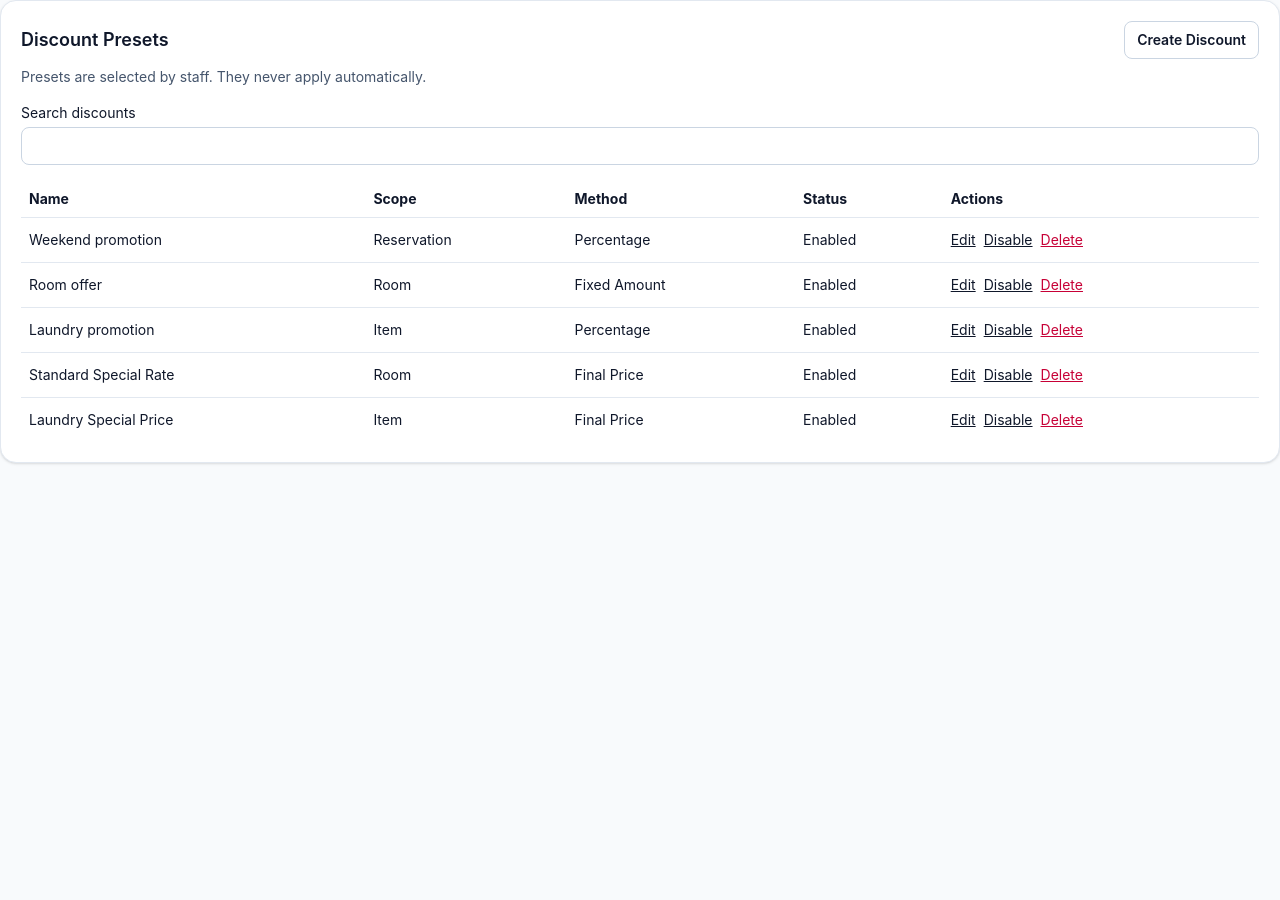
Test case: unified discount builder › offers only fixed and percentage methods for reservation presets
The width and height of the screenshot is (1280, 900).
Click the button "Create Discount" at (1192, 40), box [1124,21,1259,59]
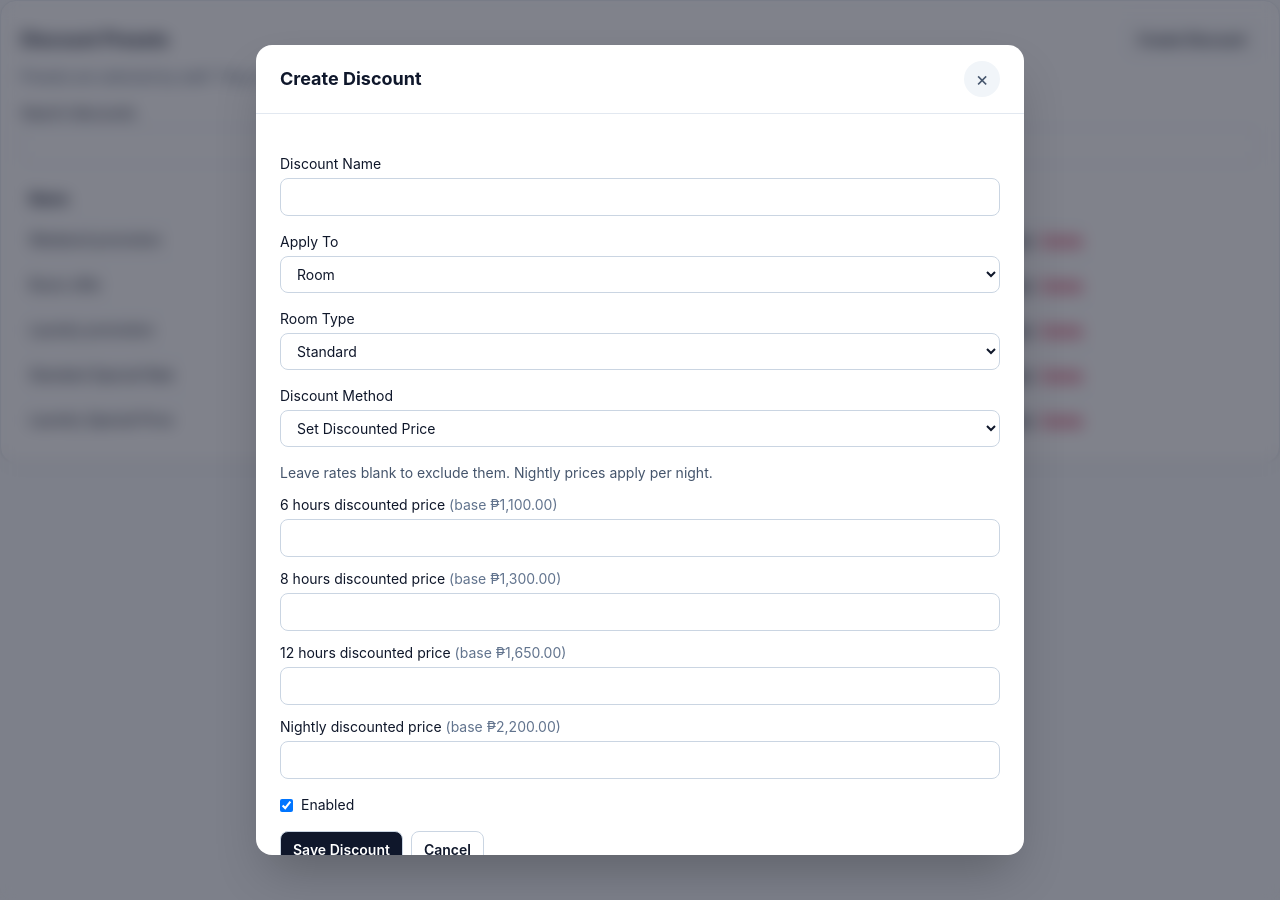
Select "Reservation" in the dropdown labelled "Apply To" at (640, 274), box [280,256,1000,293]
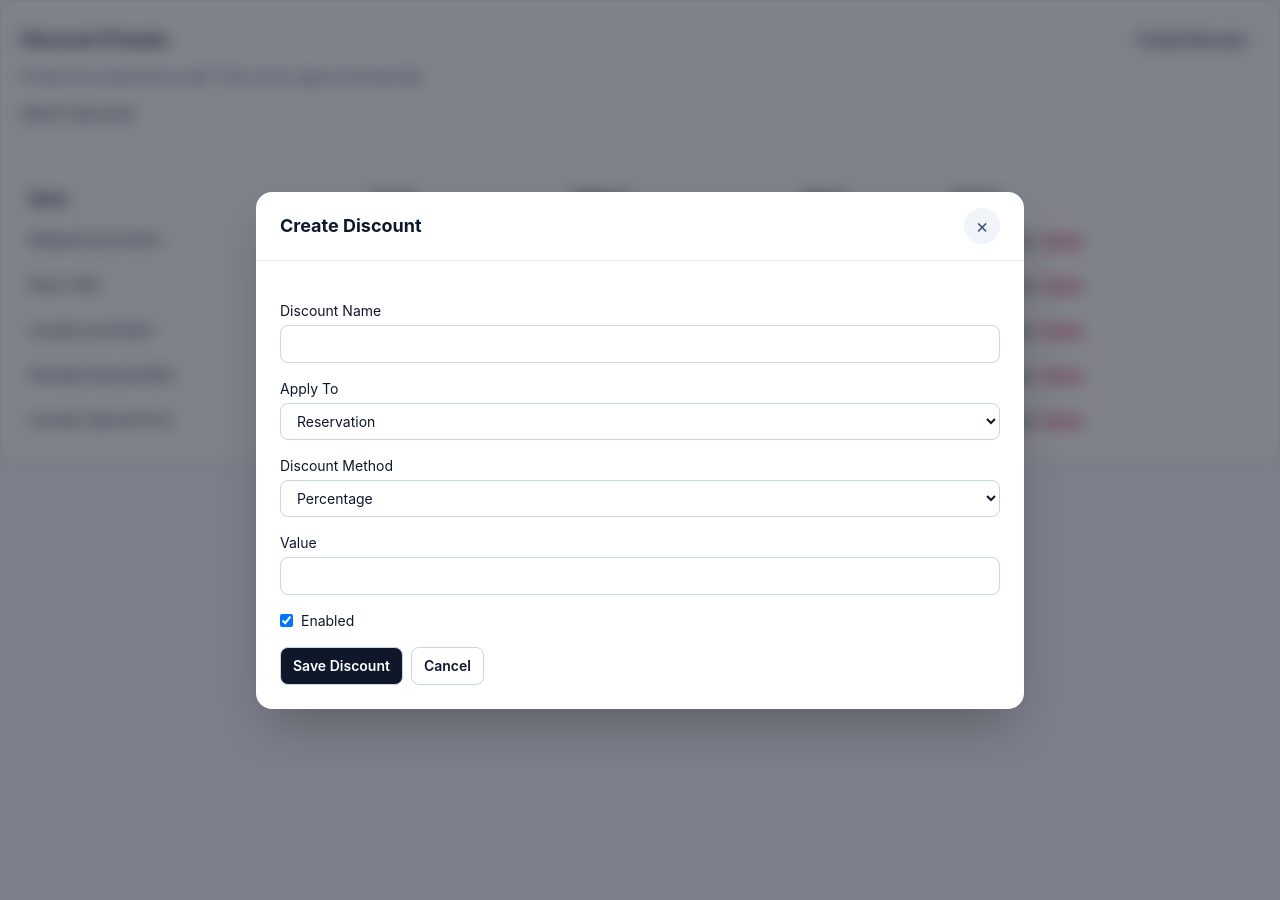
Check: the option "Set Discounted Price" is not shown
Type "Student offer" into the field labelled "Discount Name" at (640, 344), box [280,324,1000,362]
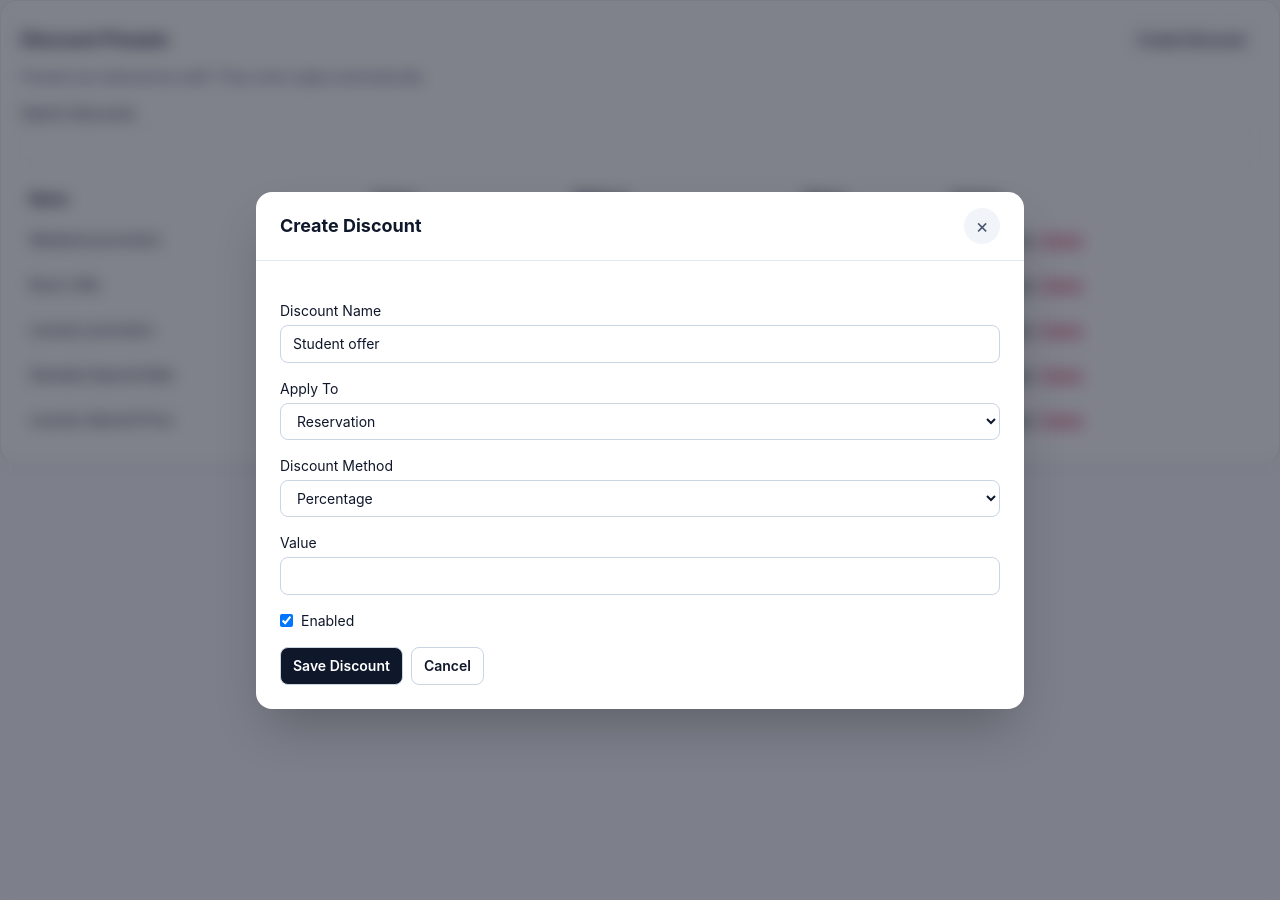
Type "15" into the number field labelled "Value" at (640, 576), box [280,556,1000,594]
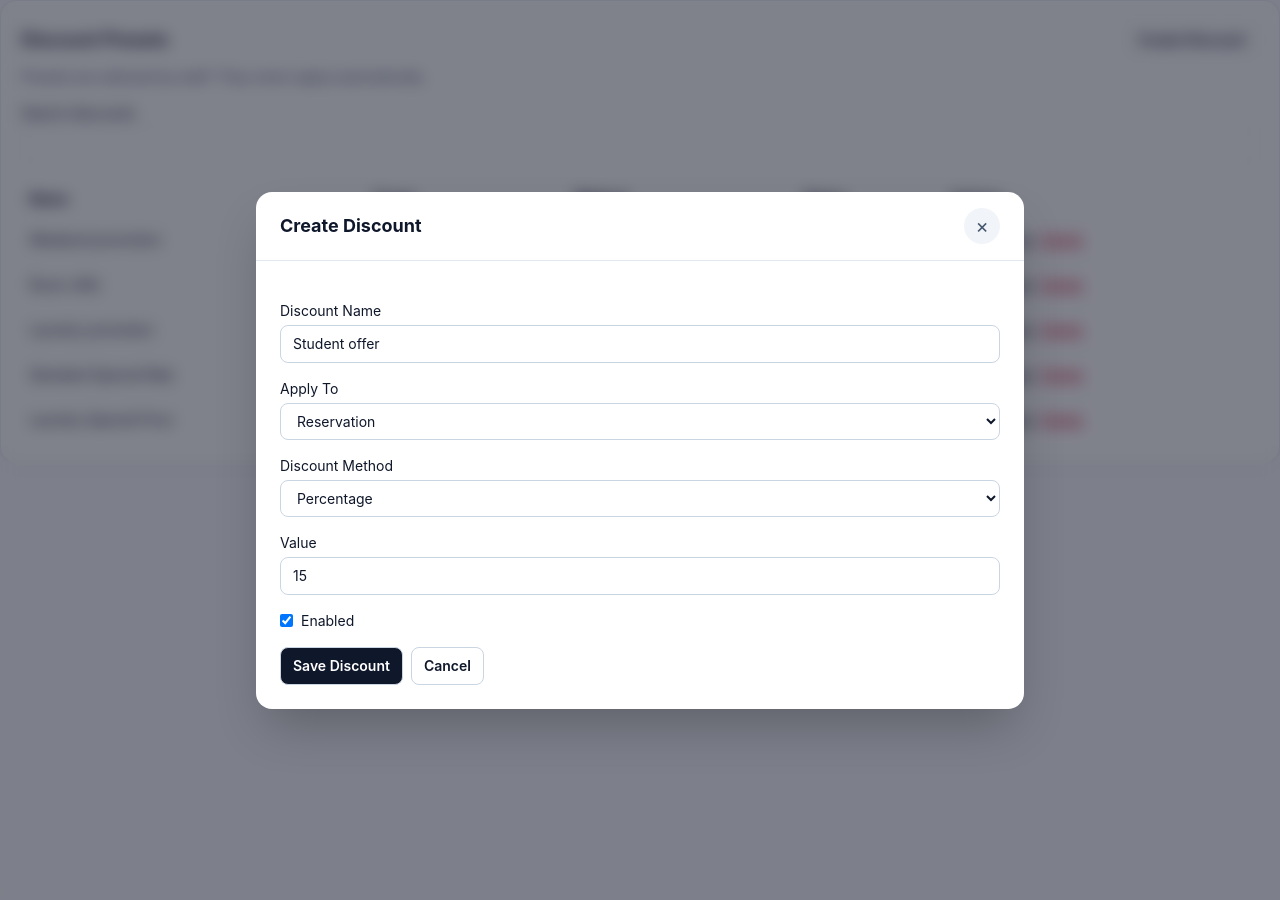
Click the button "Save Discount" at (341, 666), box [280,646,403,684]
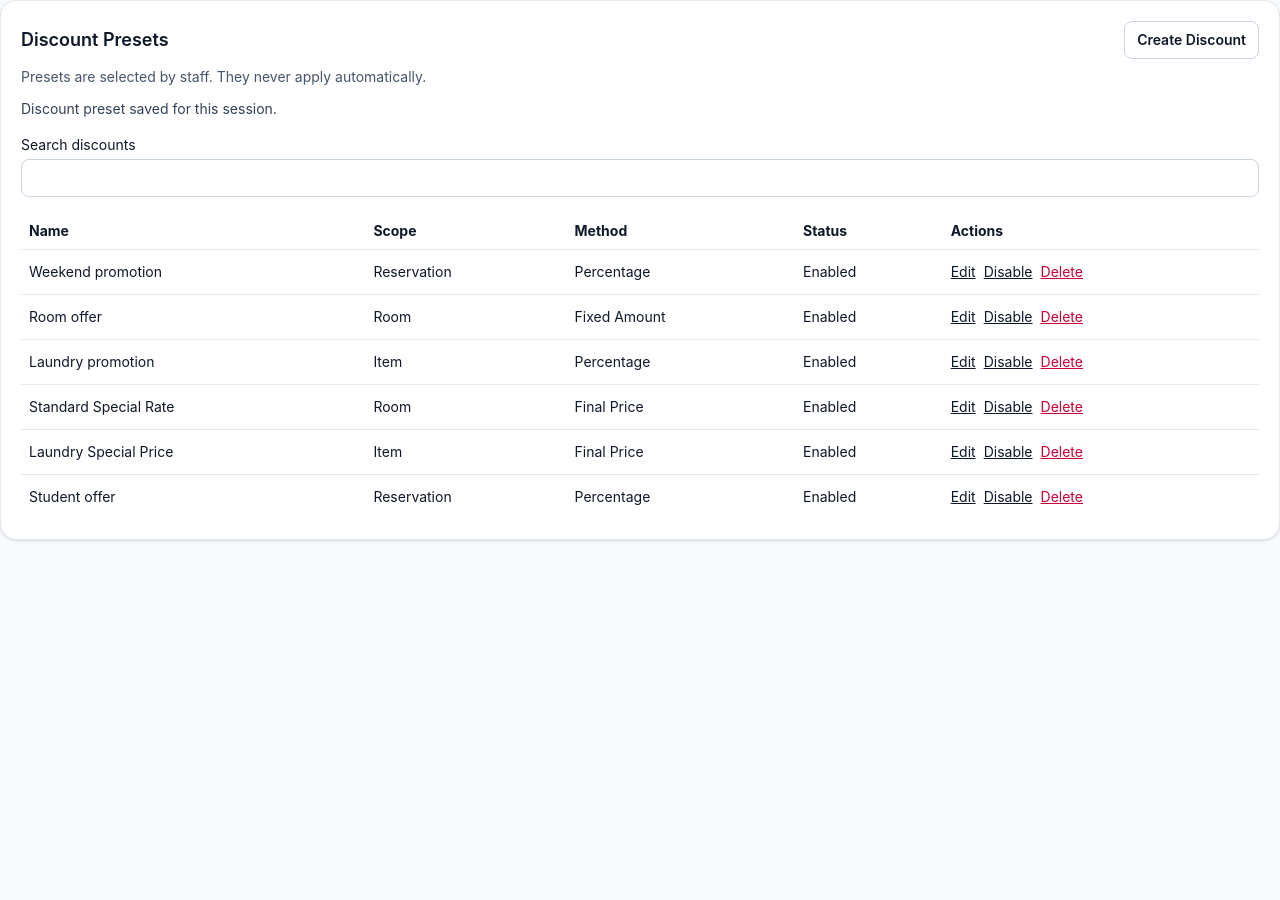
Check: the row "Student offer" is shown, box [21,474,1259,519]
